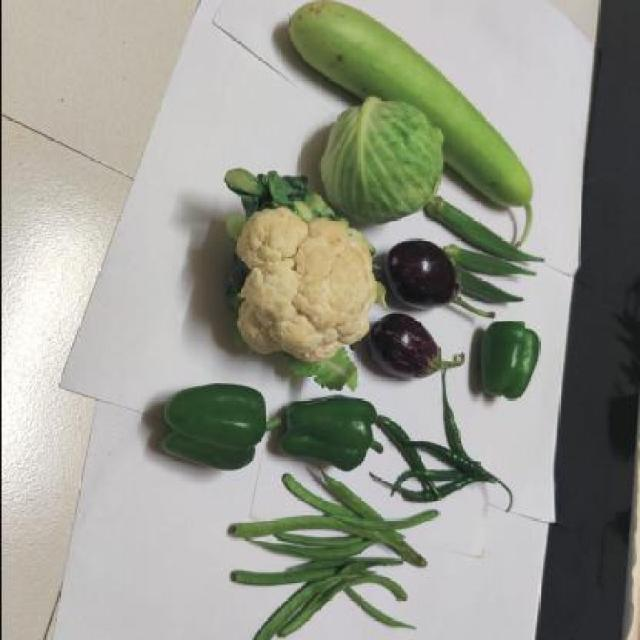Brinjal: (366, 308, 464, 397), (382, 238, 484, 322)
Cabbage: (317, 94, 446, 226)
Capsicum: (150, 372, 278, 480), (266, 385, 380, 483), (472, 312, 540, 416)
Cauliflower: (227, 183, 376, 377)
Green Chili: (380, 388, 512, 526)
Lady finger: (432, 197, 537, 305)
